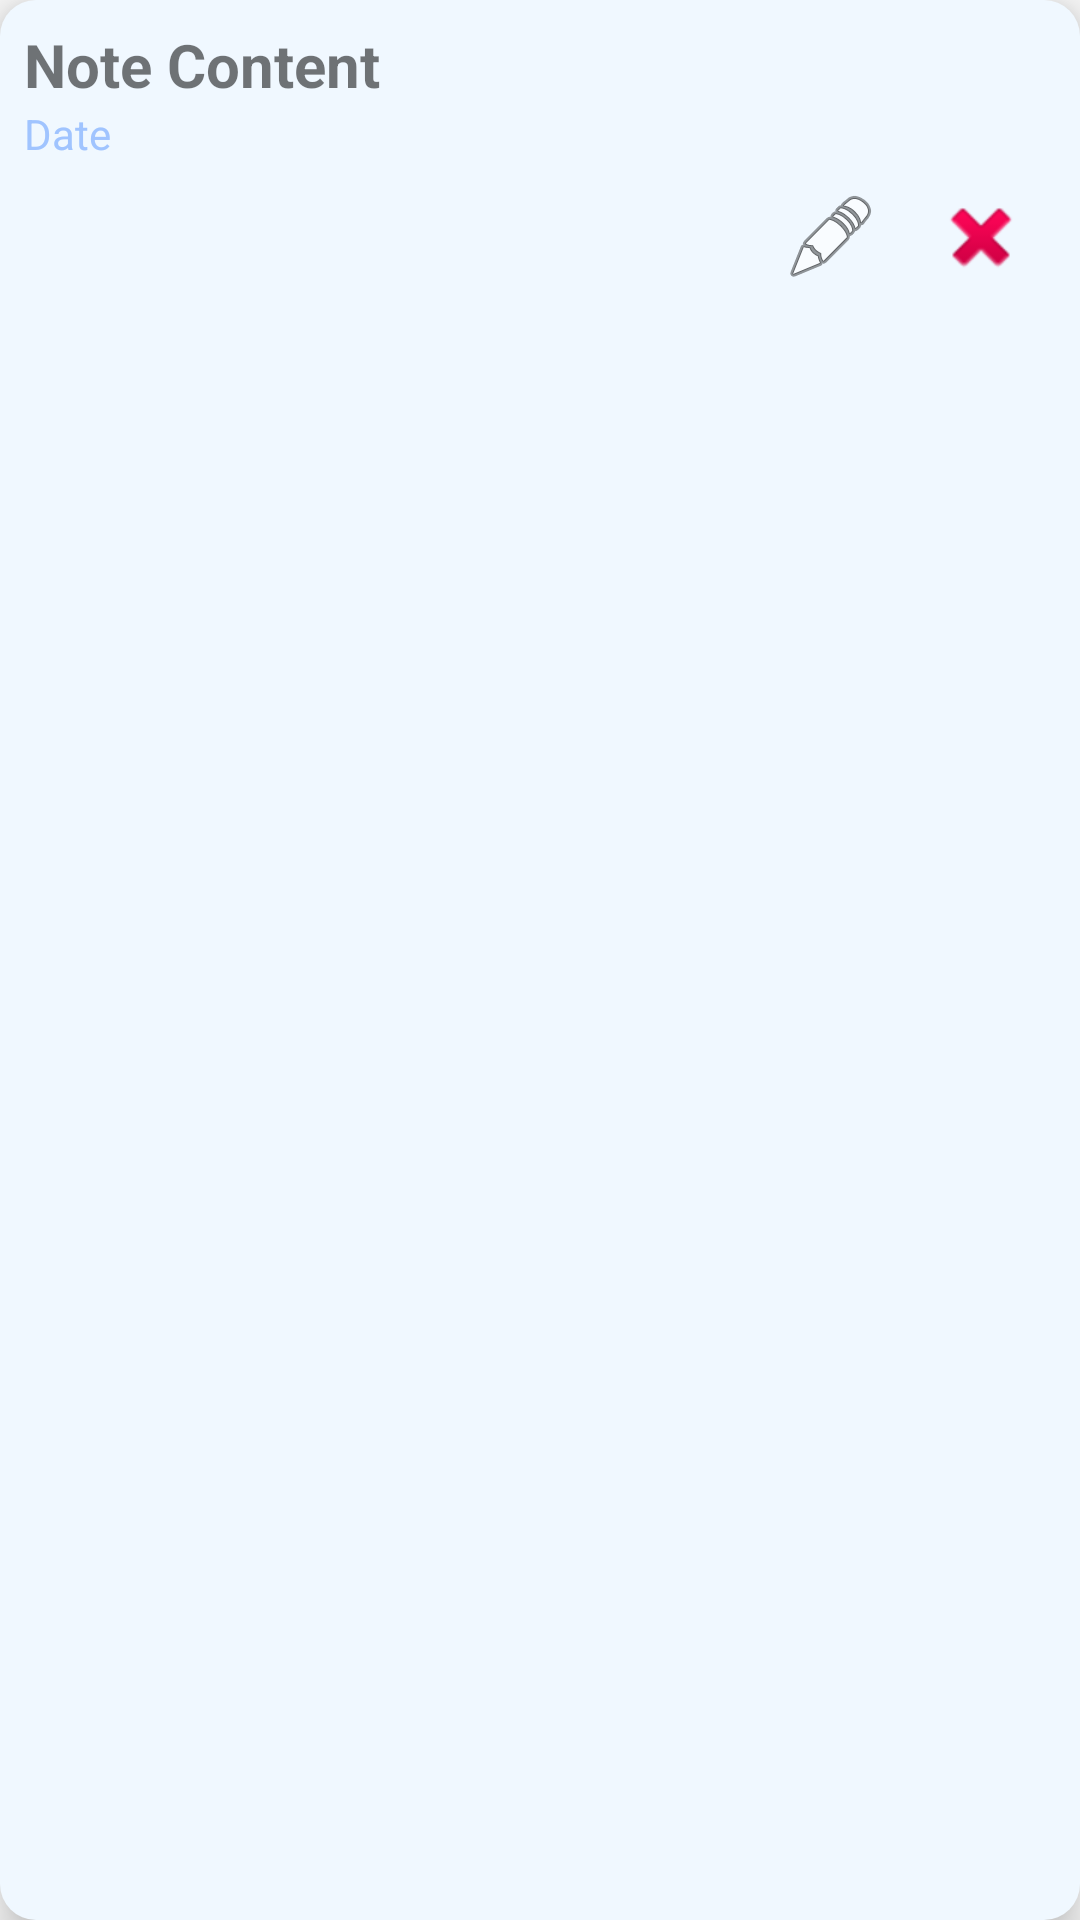

Screen size 1080 × 1920. Icon name, then its box in pixels as [x1=x1, y1=y1, x2=x2, y2=y2]:
delete: [x1=950, y1=208, x2=1012, y2=267]
edit: [x1=790, y1=196, x2=871, y2=277]
